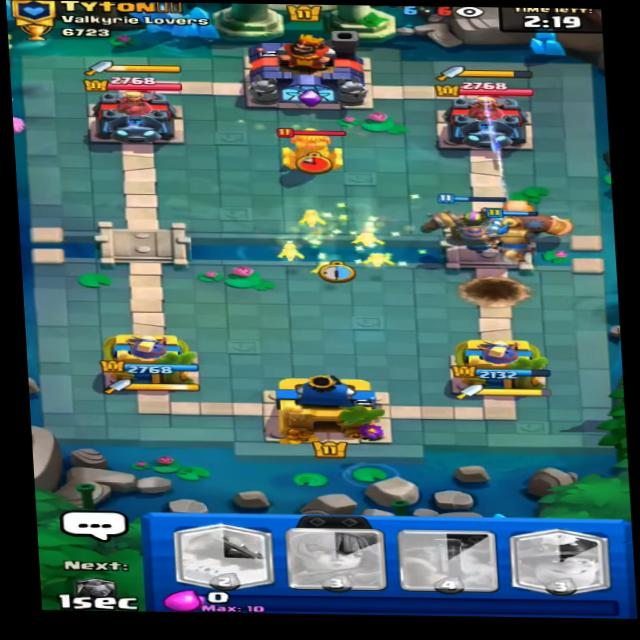tesla: (271, 125, 356, 175)
